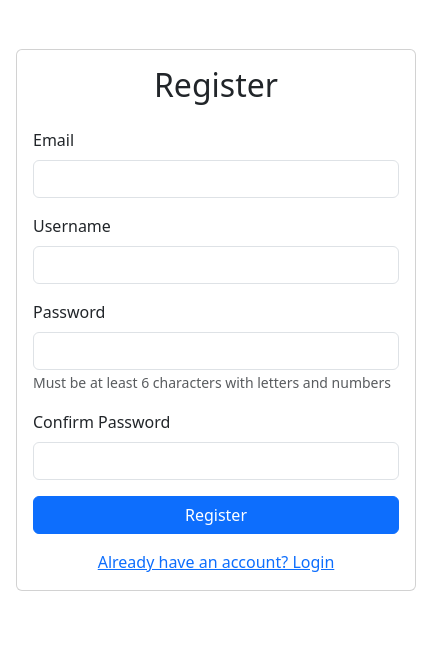
Register Component › displays error when password is too short
Type "test@example.com" into the field labelled "Email" at (216,179), box [33,160,399,198]
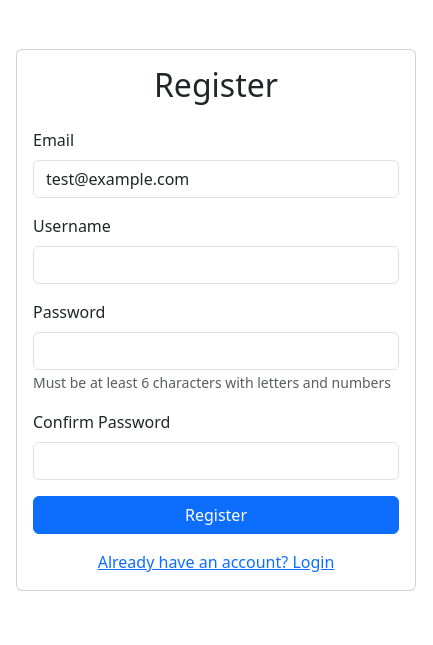
Type "testuser" into the field labelled "Username" at (216,265), box [33,246,399,284]
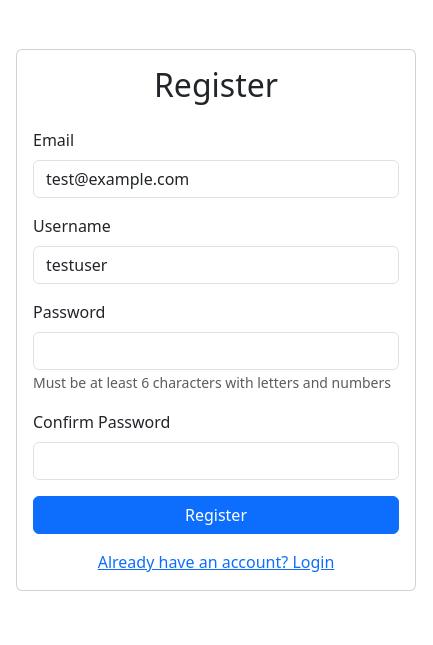
Type "12345" into the password field labelled "Password" at (216,351), box [33,332,399,370]
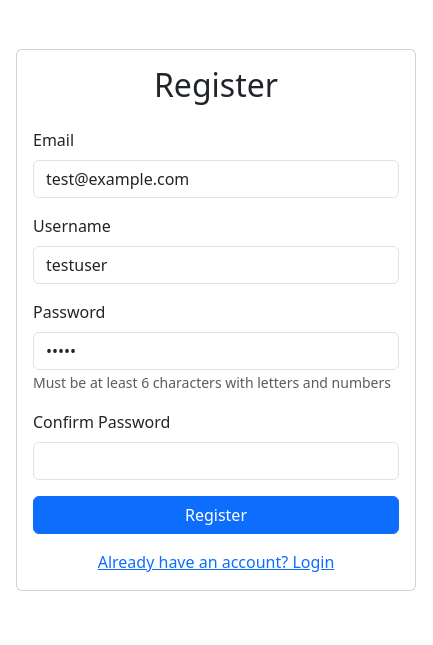
Type "12345" into the password field labelled "Confirm Password" at (216,461), box [33,442,399,480]
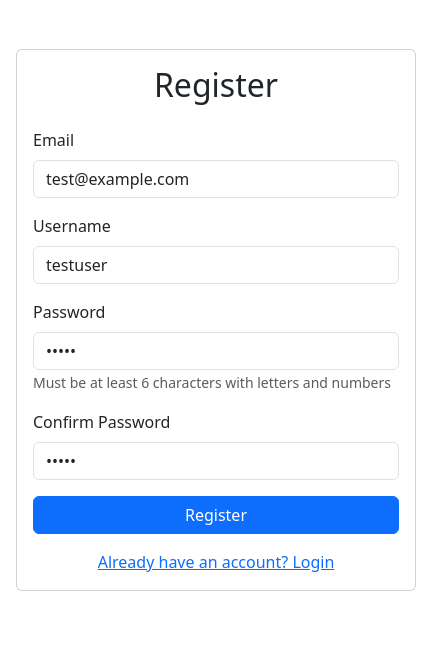
Click the button "Register" at (216,515), box [33,496,399,534]
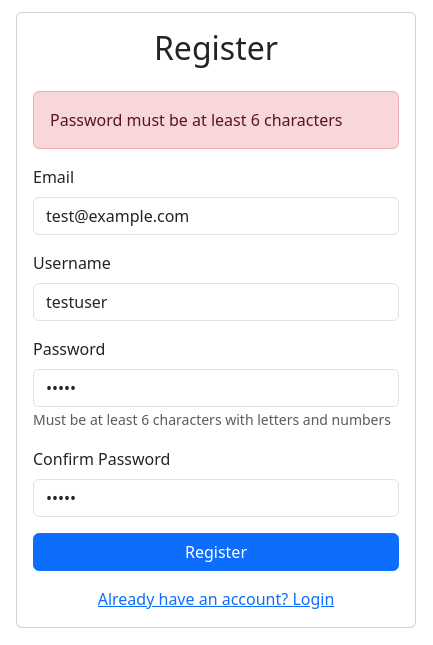
Result: the text "Password must be at least 6 characters" is shown at [33,91,399,149]
